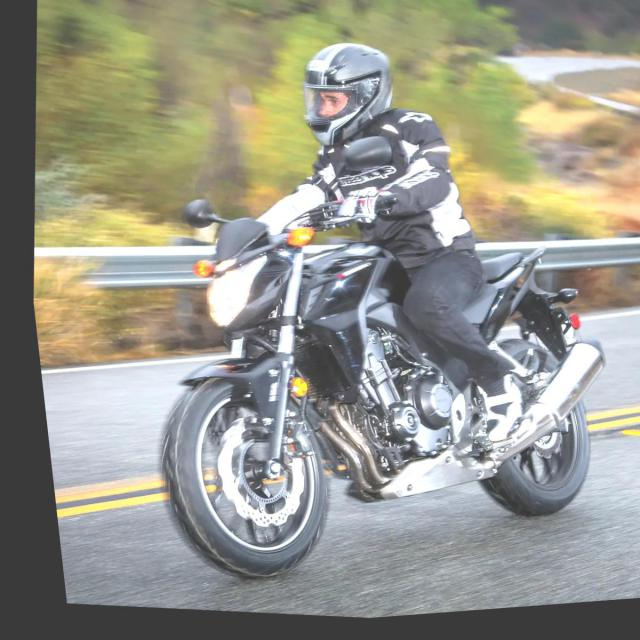CB500F: (113, 172, 635, 632)
